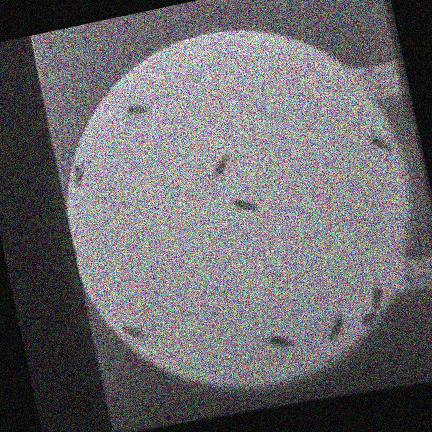fly: (328, 314, 343, 343), (213, 154, 229, 178), (368, 136, 392, 151), (122, 325, 144, 340), (266, 337, 293, 348), (371, 284, 382, 310), (231, 200, 256, 211), (72, 162, 83, 186), (124, 104, 148, 115), (361, 312, 376, 326)
